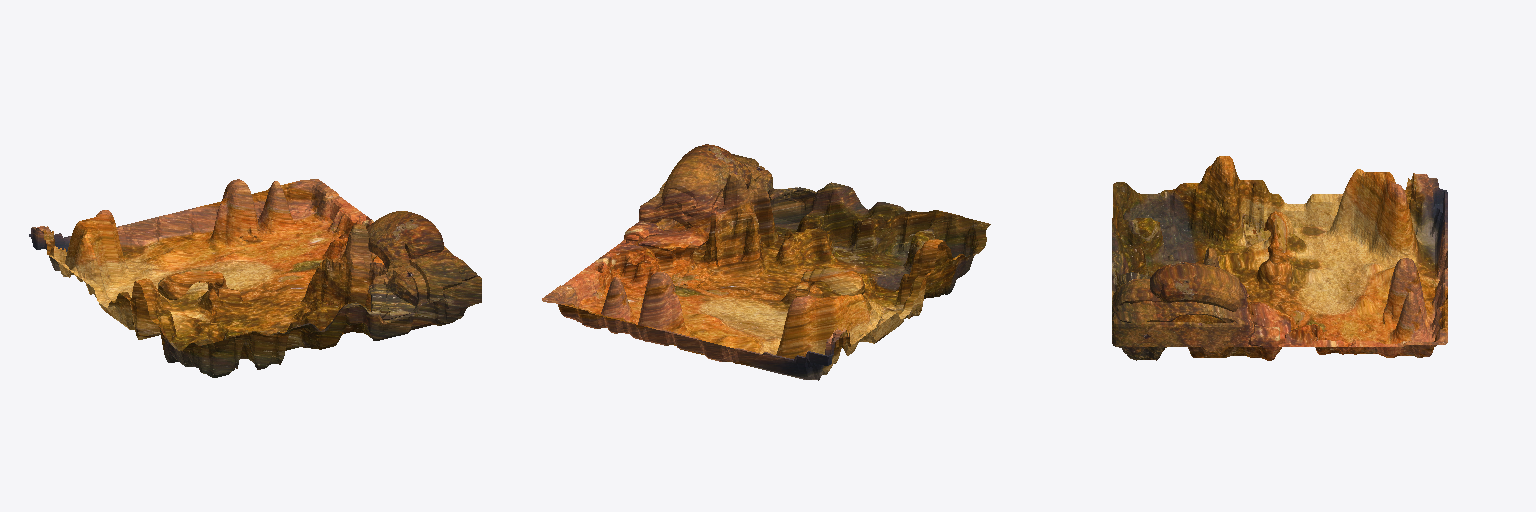
The picture shows the model from 3 angles: view 1: azimuth 30°, elevation 25°; view 2: azimuth 150°, elevation 25°; view 3: azimuth 270°, elevation 25°; orthographic projection.
Visible parts, largest first — view 1: Terrain; view 2: Terrain; view 3: Terrain.
Part boxes in pixels (x1,y1,x2,y2): Terrain: (29, 179, 481, 377); Terrain: (542, 144, 990, 380); Terrain: (1112, 156, 1447, 360).
Size of the model in its own units: 7.9 by 2.35 by 7.87.
1 materials, 1 textured.